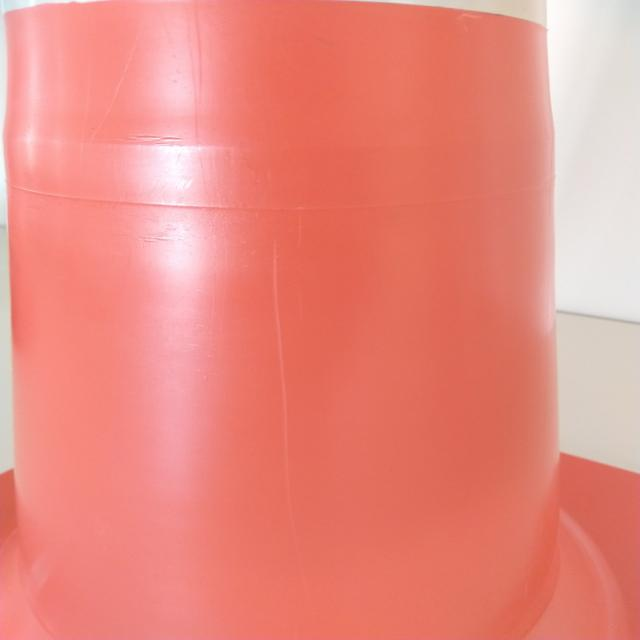cone: (0, 0, 620, 624)
